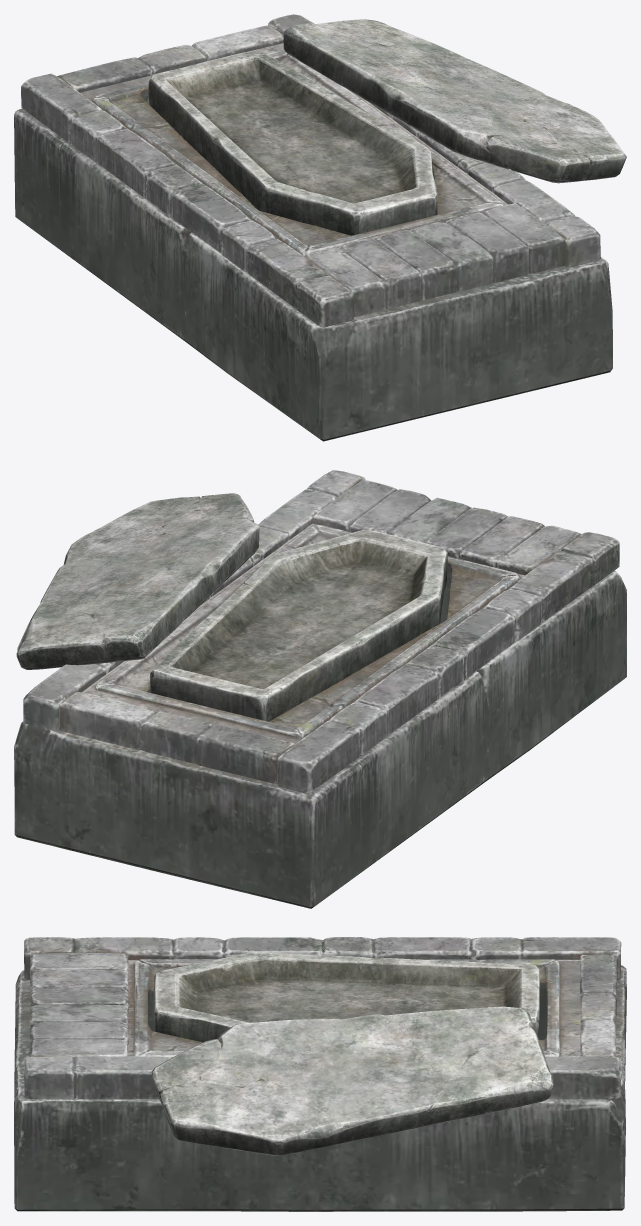
3 renders of one model, top to bottom at view 1: azimuth 30°, elevation 25°; view 2: azimuth 150°, elevation 25°; view 3: azimuth 270°, elevation 25°, orthographic. The views are drawn at different scales.
Parts seen in each view (by area): view 1: SM_Tombstone_Stone_Base_04_LOD0; view 2: SM_Tombstone_Stone_Base_04_LOD0; view 3: SM_Tombstone_Stone_Base_04_LOD0.
Part boxes in pixels (x1,y1,x2,y2): SM_Tombstone_Stone_Base_04_LOD0: (14,14,626,441); SM_Tombstone_Stone_Base_04_LOD0: (14,470,626,908); SM_Tombstone_Stone_Base_04_LOD0: (14,937,626,1211).
Size of the model in its own units: 2.8 by 1.15 by 3.67.
Materials: 3 (3 with a texture image).
